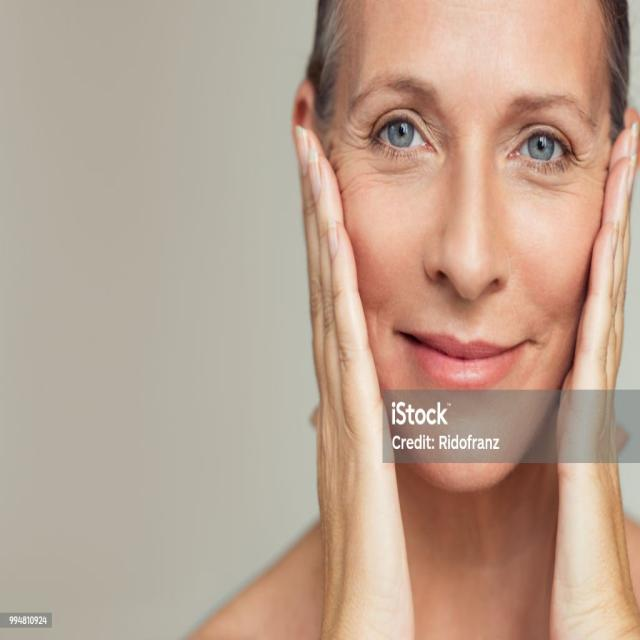Dry-Skin: (309, 108, 371, 243), (576, 123, 617, 274)
